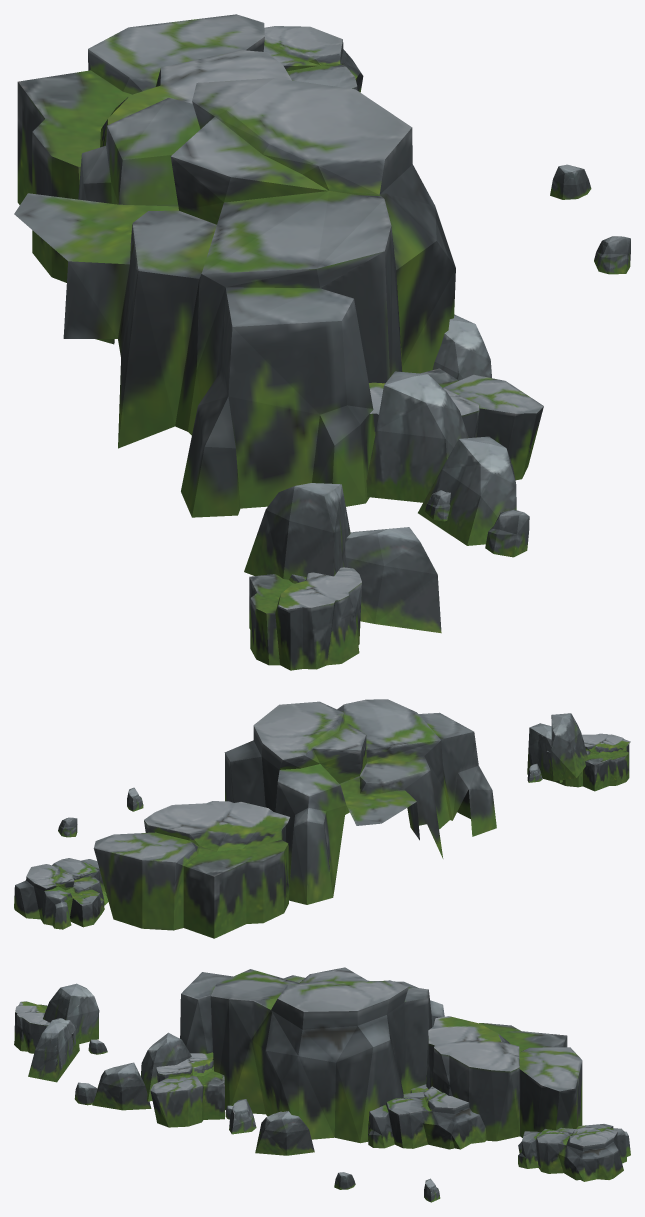
Rendered from Area12_1_y.FBX.
3 renders of one model, top to bottom at view 1: azimuth 30°, elevation 25°; view 2: azimuth 150°, elevation 25°; view 3: azimuth 270°, elevation 25°, orthographic. The views are drawn at different scales.
Visible parts, largest first — view 1: Area12_1_y; view 2: Area12_1_y; view 3: Area12_1_y.
Part boxes in pixels (box(x1,y1,x2,y2)): Area12_1_y: box(14, 14, 630, 670); Area12_1_y: box(14, 699, 630, 938); Area12_1_y: box(14, 967, 630, 1202).
Size of the model in its own units: 5916 by 2054 by 8658.
1 material, 1 textured.
